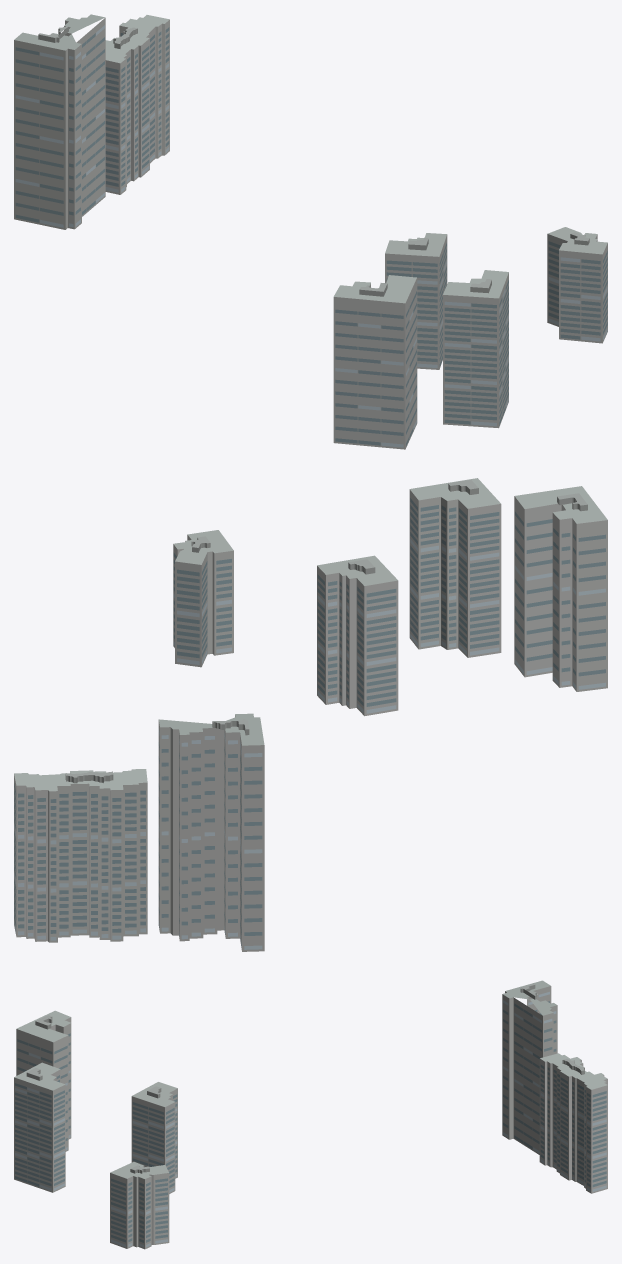
The model's file is apt-a10026403.glb.
The picture shows the model from 3 angles, top to bottom: view 1: azimuth 30°, elevation 25°; view 2: azimuth 150°, elevation 25°; view 3: azimuth 270°, elevation 25°; orthographic projection. The views are drawn at different scales.
Visible parts, largest first — view 1: apt-a10026403; view 2: apt-a10026403; view 3: apt-a10026403.
Part boxes in pixels (x1,y1,x2,y2): apt-a10026403: (14, 14, 607, 449); apt-a10026403: (14, 478, 607, 951); apt-a10026403: (14, 980, 607, 1249).
Size of the model in its own units: 167 by 89 by 330.
